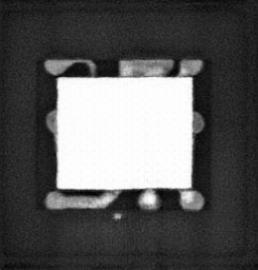DIE_INK: (112, 212, 123, 220)
